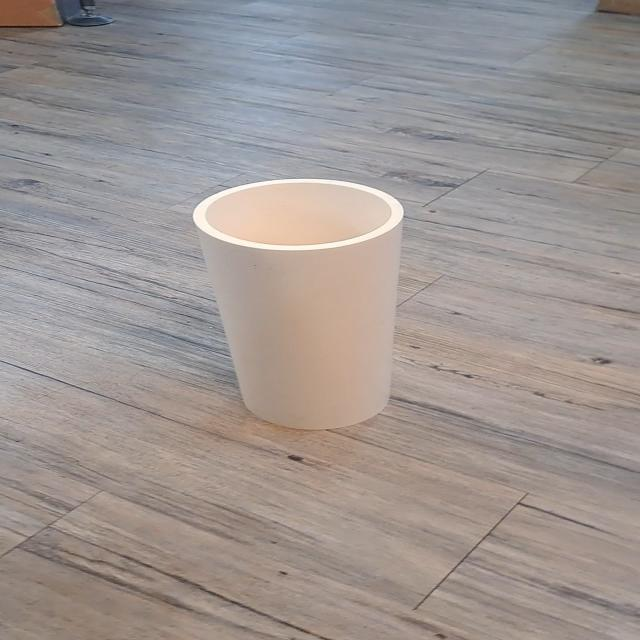CORAL: (164, 170, 480, 438)
